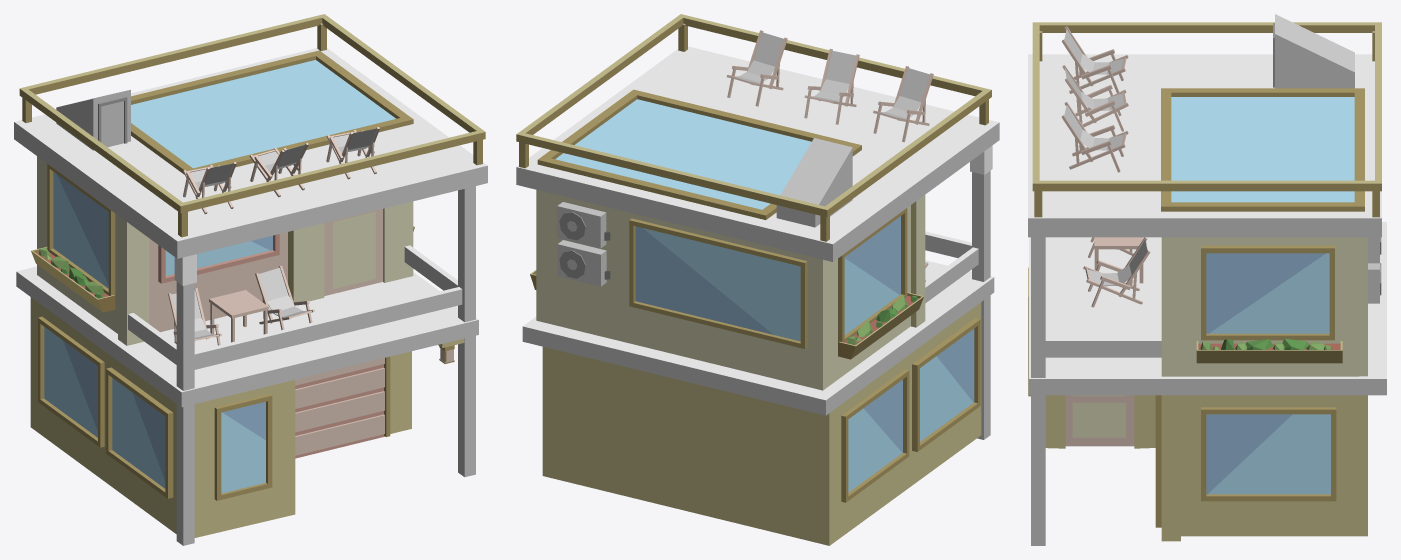
Rendered from cottage_010.glb.
3 renders of one model, left to right at view 1: azimuth 30°, elevation 25°; view 2: azimuth 150°, elevation 25°; view 3: azimuth 270°, elevation 25°, orthographic. The views are drawn at different scales.
Visible parts, largest first — view 1: cottage_010; view 2: cottage_010; view 3: cottage_010.
Boxes of the visible parts, left/top/right/bottom form: cottage_010: left=14, top=14, right=487, bottom=545; cottage_010: left=516, top=14, right=999, bottom=545; cottage_010: left=1028, top=14, right=1386, bottom=545.
Size of the model in its own units: 6.82 by 7.35 by 6.15.
Materials: 1 (1 with a texture image).
